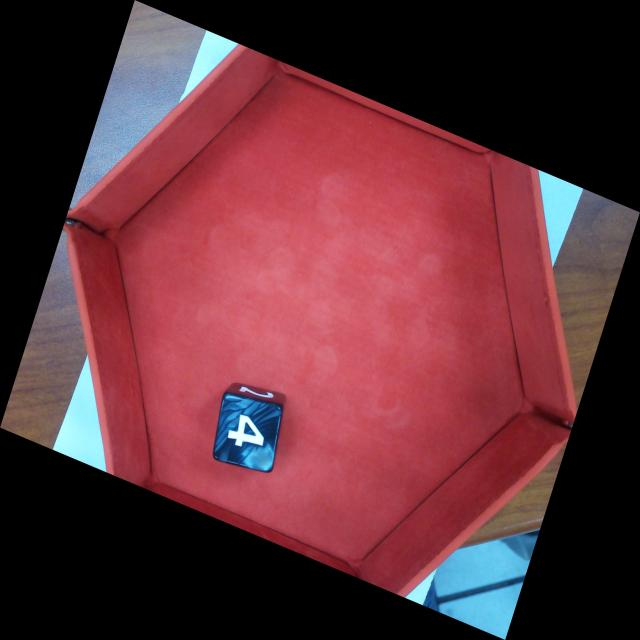dice: (216, 395, 281, 471)
